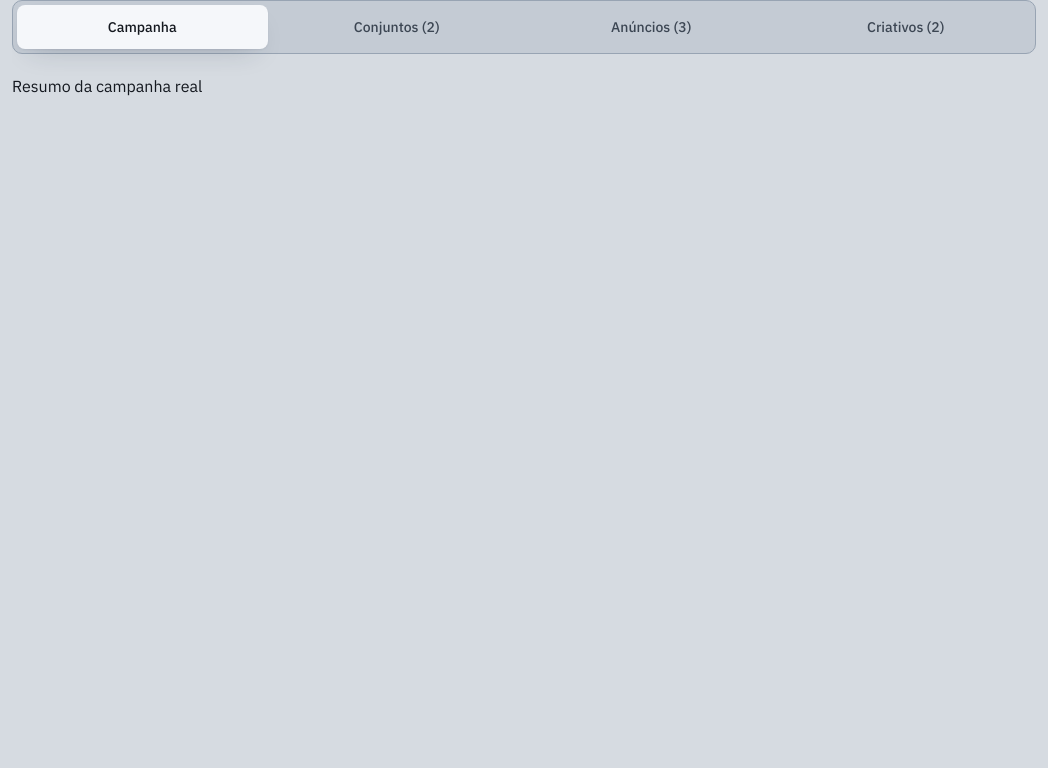
Test: conjunto abre apenas seus anúncios e limpar restaura a lista
Press the mouse on the tab "Conjuntos (2)" at (397, 27), box 272,5 -> 522,49
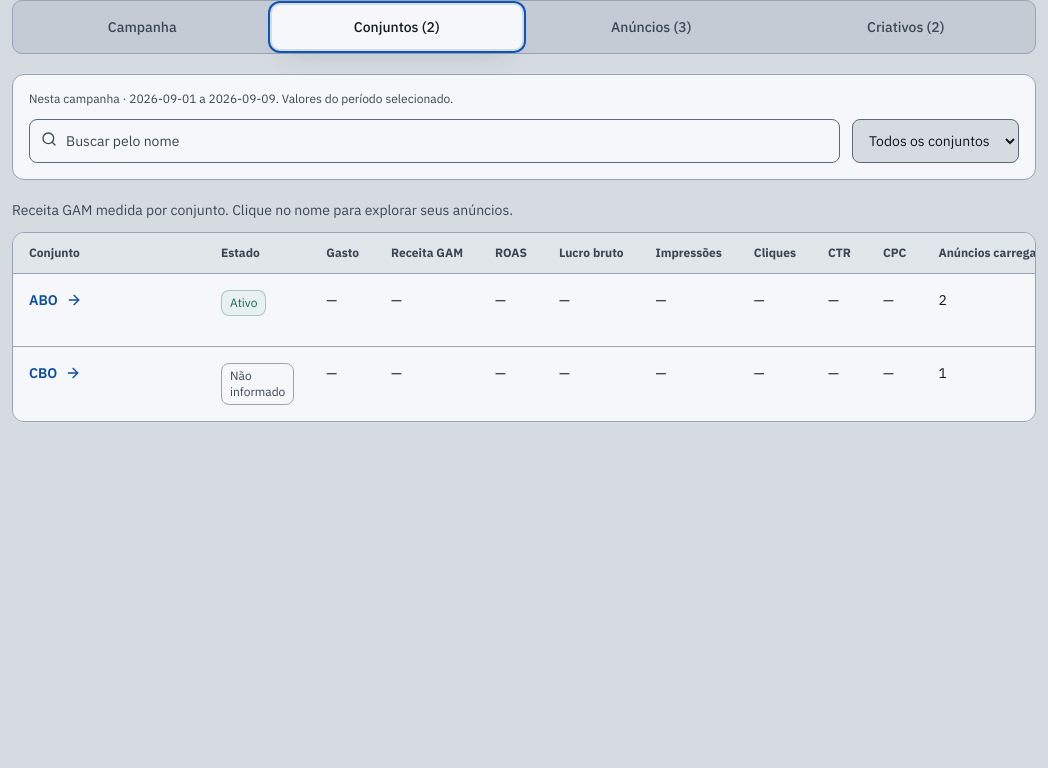
Click the button "ABO" at (55, 300), box 29,290 -> 82,310
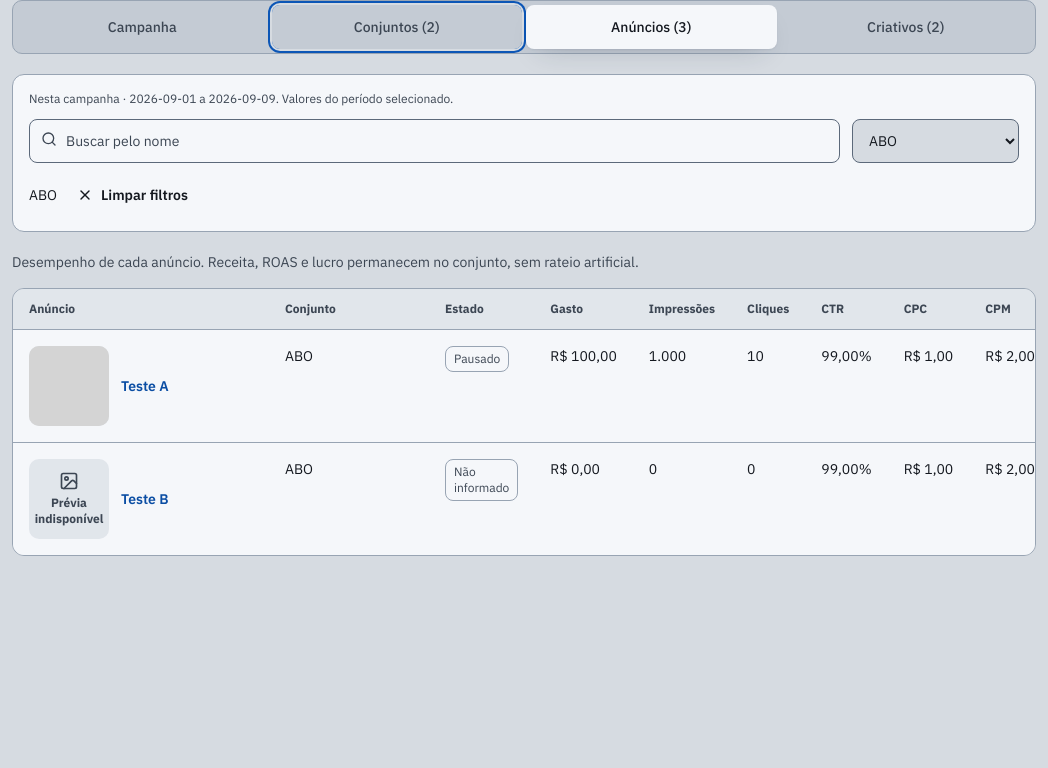
Expected: the button "Escala A" is not shown
Expected: the button "Teste A" is shown, 121,376 -> 169,396
Expected: the dropdown named "Filtrar conjunto" shows "ABO", 852,119 -> 1019,163
Click the button "Limpar filtros" at (132, 195), box 65,175 -> 200,215
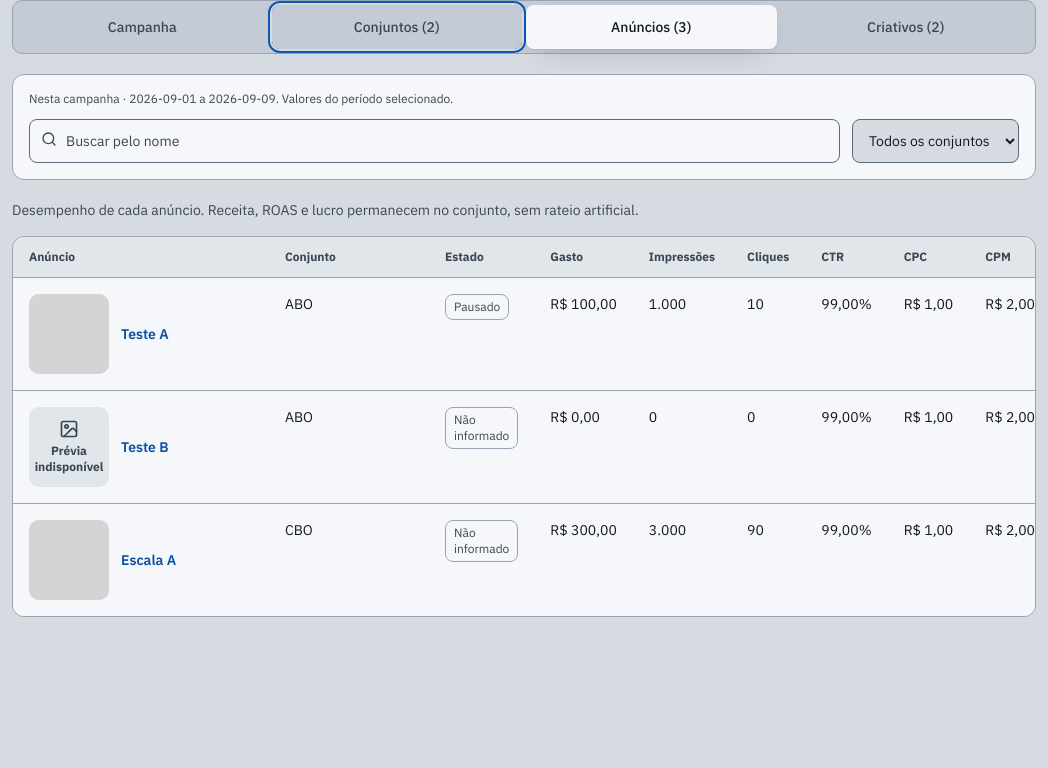
Expected: the button "Escala A" is shown, 121,550 -> 176,570
